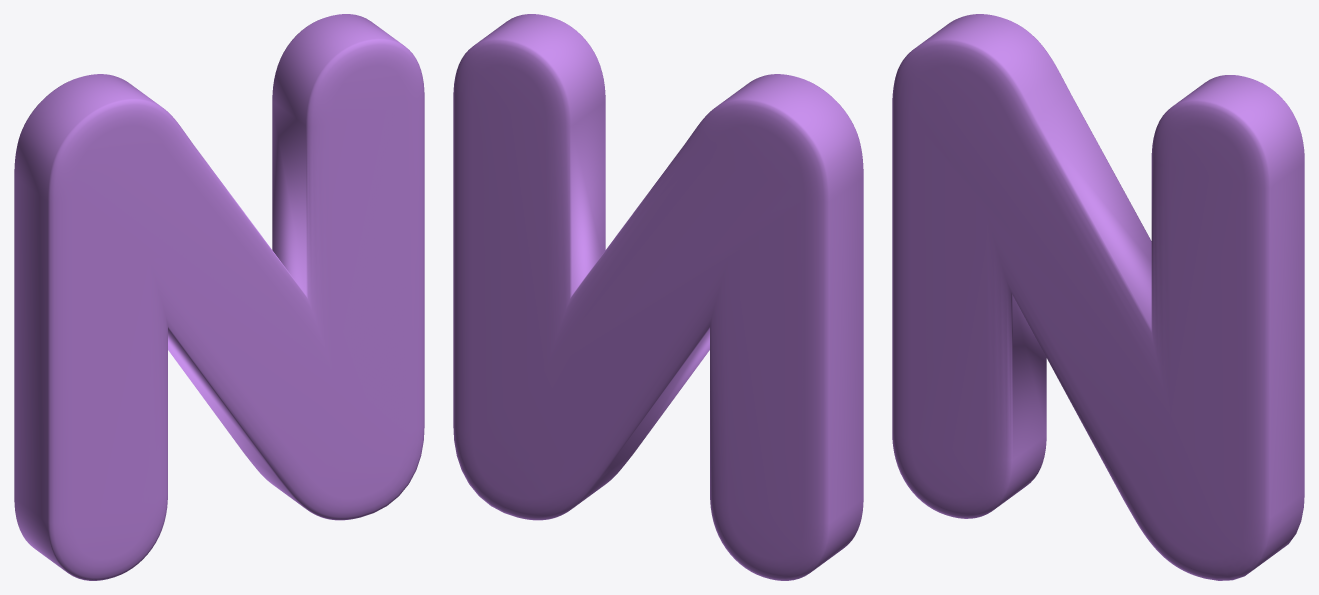
File: RA_Letter_N.fbx
3 views of the same model, side by side, from view 1: azimuth 30°, elevation 25°; view 2: azimuth 150°, elevation 25°; view 3: azimuth 330°, elevation 25° (orthographic).
Visible parts, largest first — view 1: RA_Letter_N; view 2: RA_Letter_N; view 3: RA_Letter_N.
Part boxes in pixels (x1,y1,x2,y2): RA_Letter_N: (14,14,424,580); RA_Letter_N: (453,14,863,580); RA_Letter_N: (892,14,1304,580).
Size of the model in its own units: 149 by 180 by 28.
